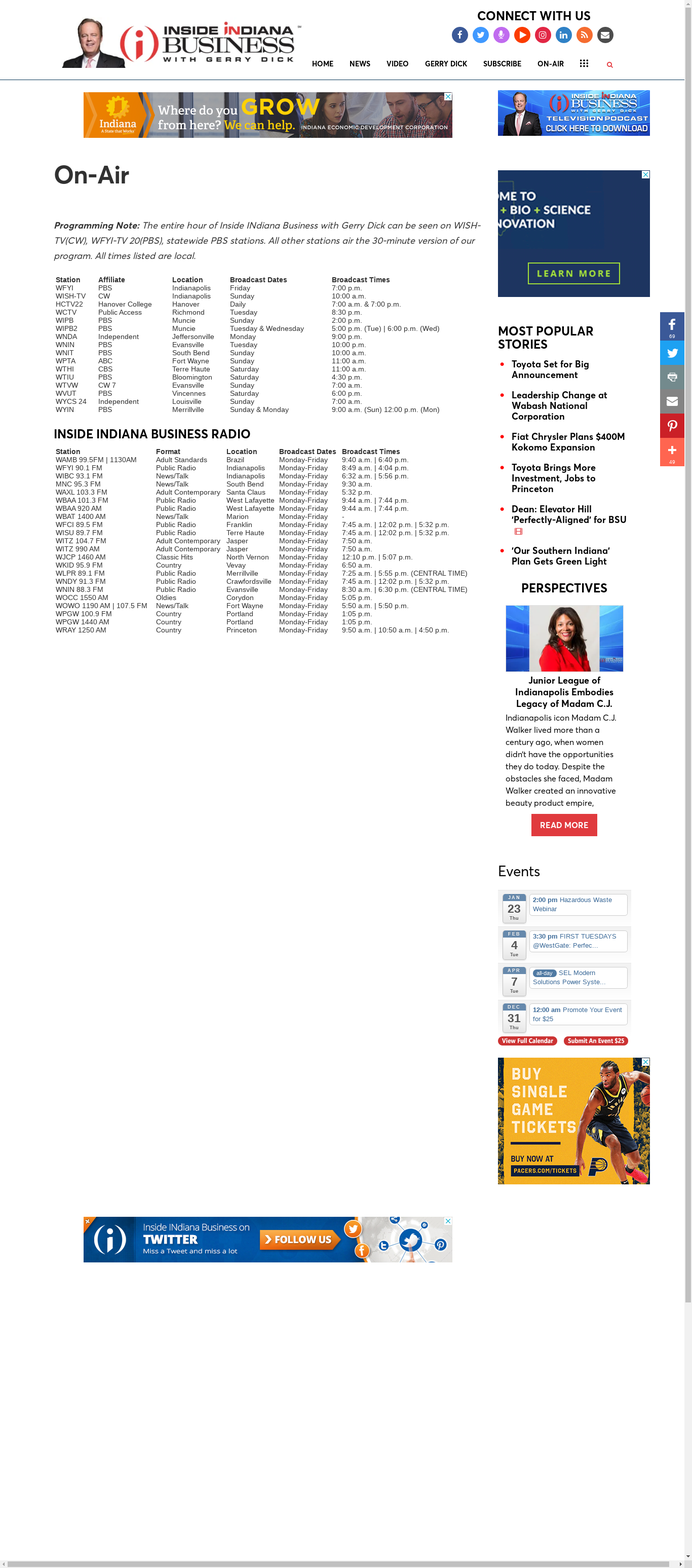fake_button: (521, 812, 609, 846)
